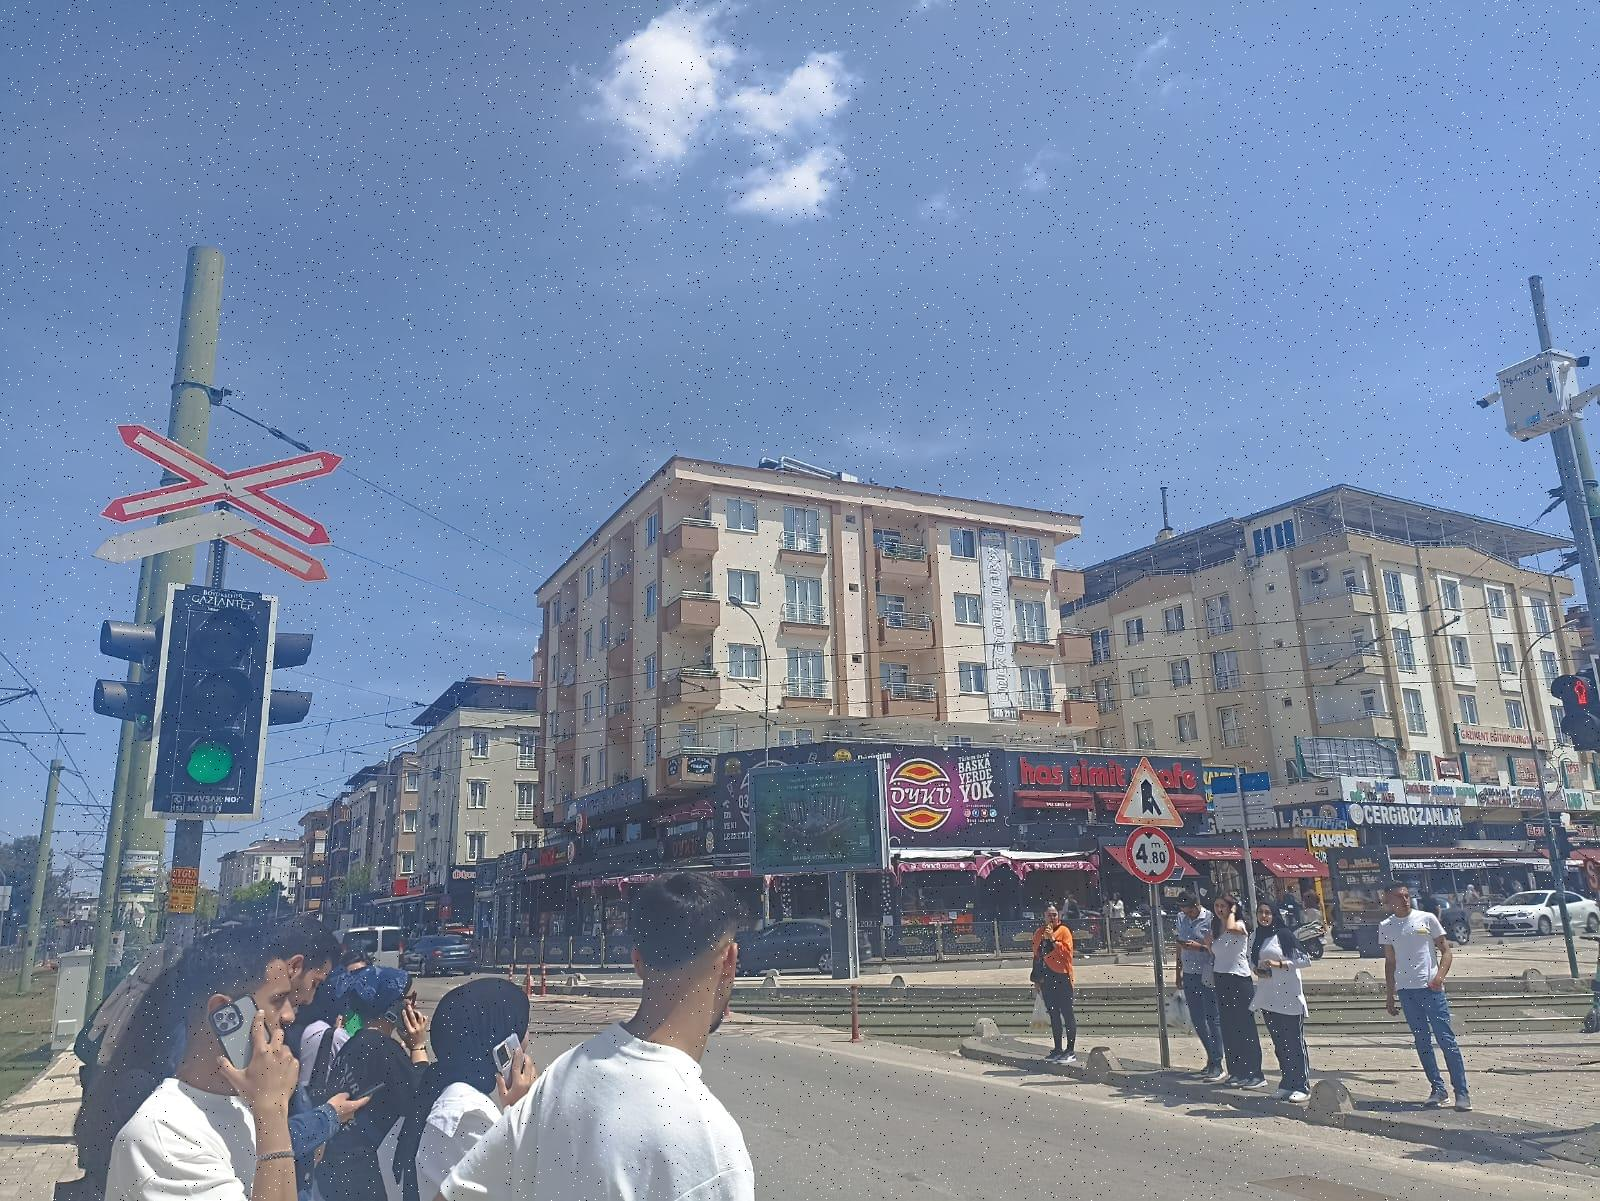greenlight: (172, 592, 262, 810)
